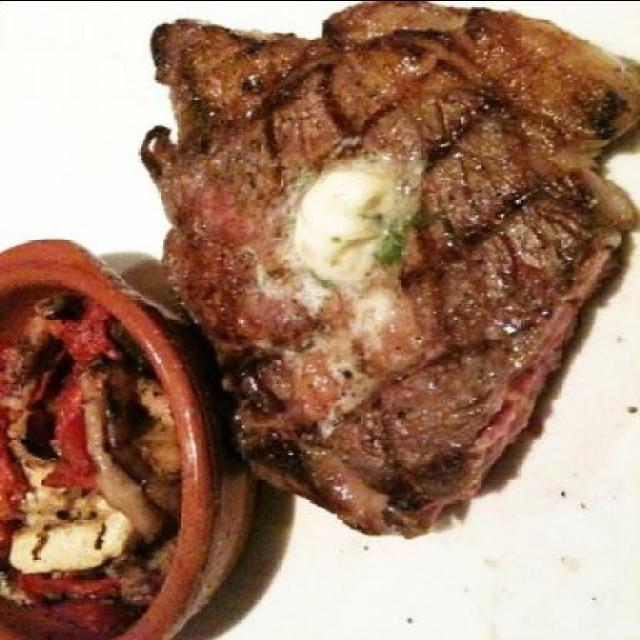Steak: (193, 6, 629, 492)
